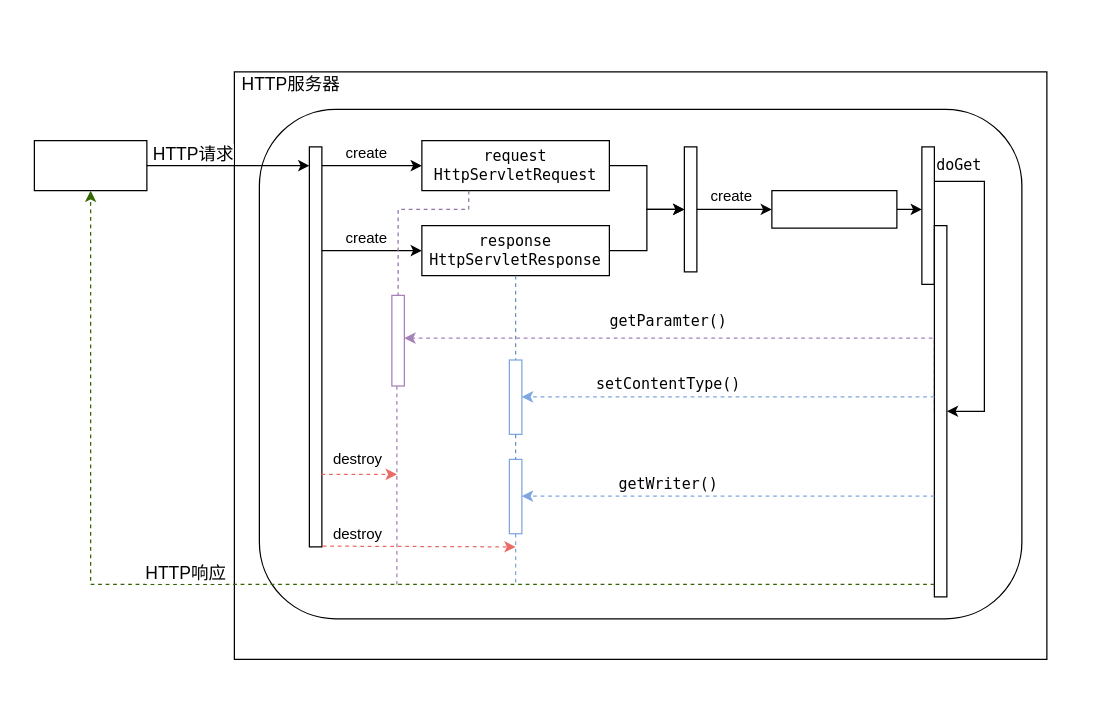
Image size: 1105x705. Some labels were removed from this diagram. The shapes that lost their labels are listed below. From the top down, each one's centre as x and y in pixels, then its label:
At (x=90, y=165): "浏览器".
At (x=834, y=208): "HttpServlet".
